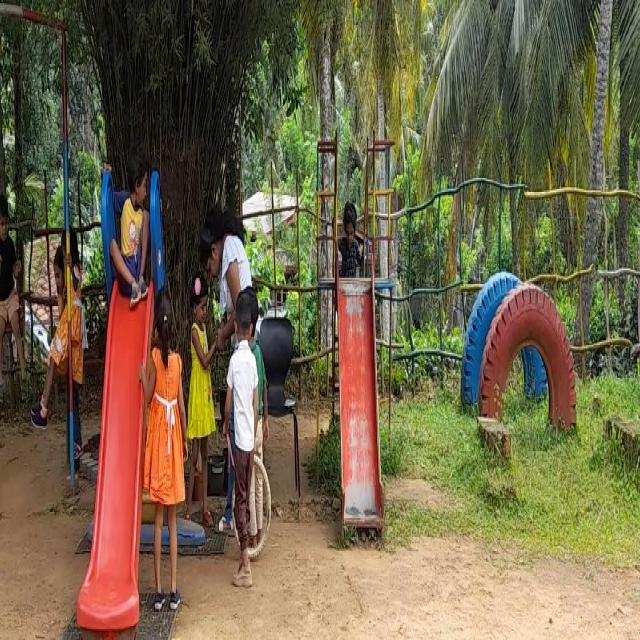child: (148, 298, 177, 607), (229, 296, 261, 560), (182, 286, 211, 521), (107, 162, 152, 300), (0, 209, 23, 370)
